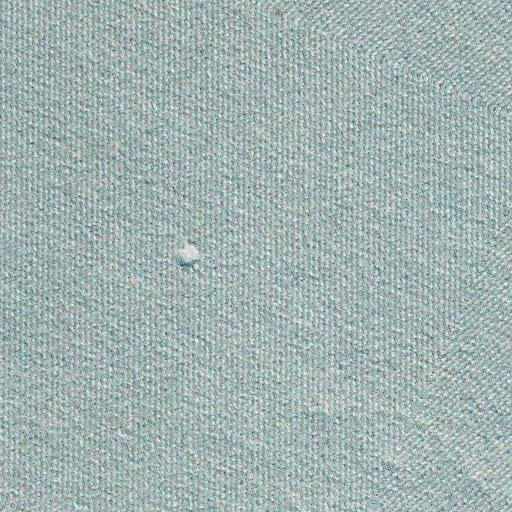knot: (161, 231, 211, 274)
